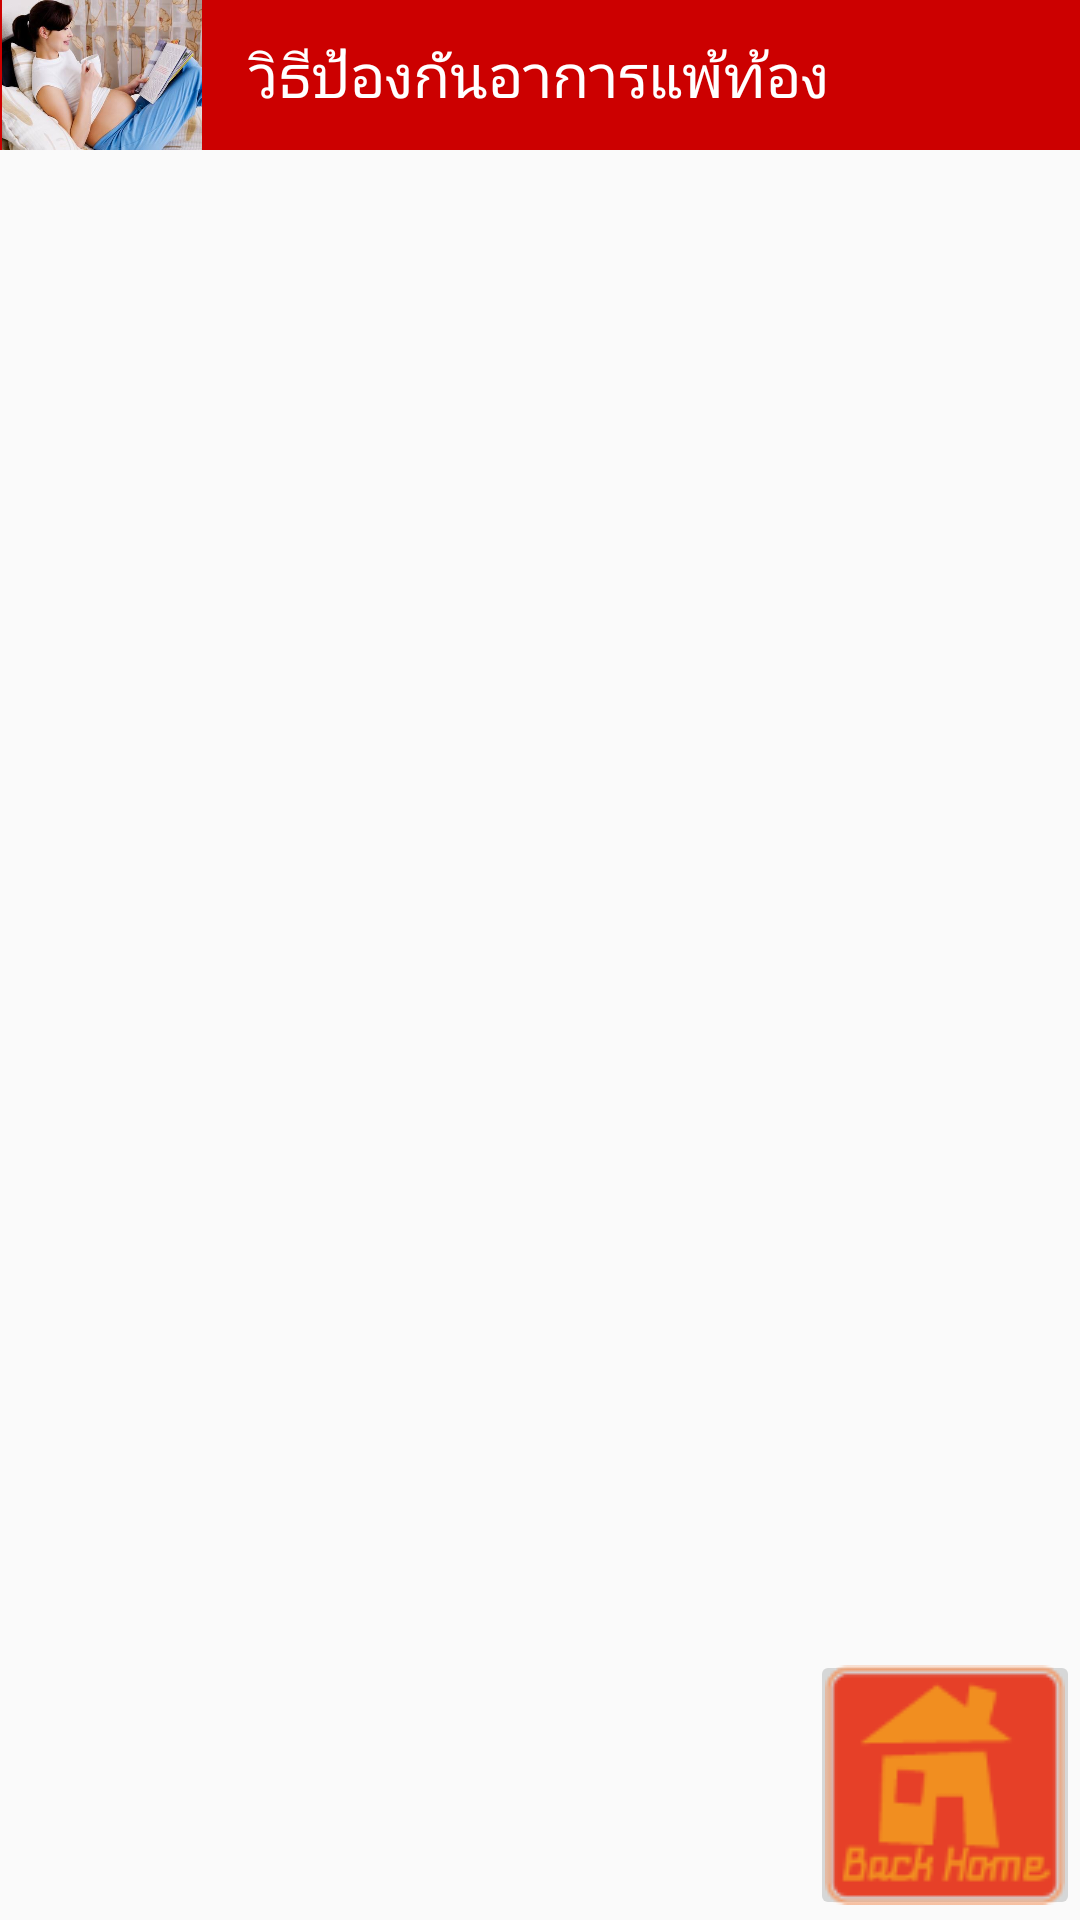

Screen size 1080×1920. Icon name, then its center in pixels as (x,y):
mom: (102,75)
